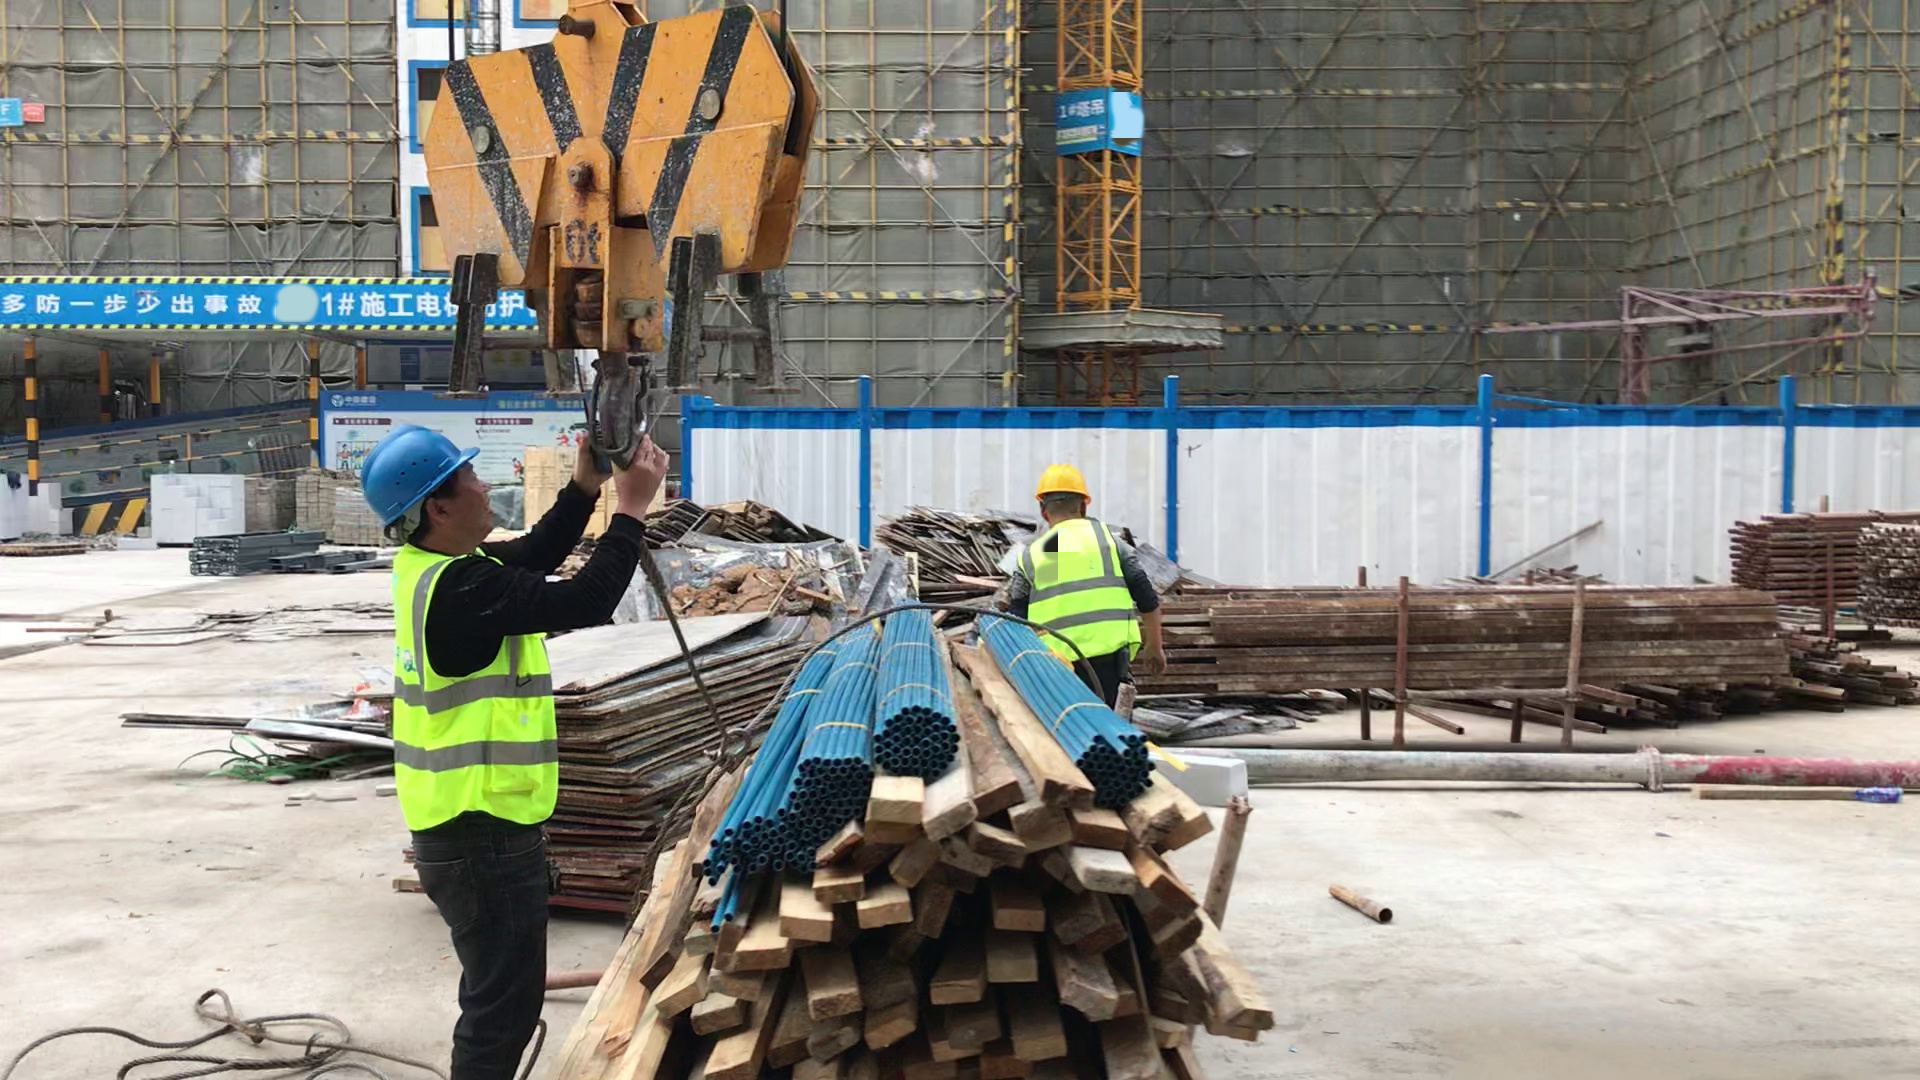board: (522, 604, 845, 930)
brick: (122, 461, 371, 550), (3, 458, 94, 558)
fence: (3, 409, 326, 520)
helmet: (352, 416, 492, 526), (1020, 441, 1104, 514)
hook: (348, 3, 915, 482)
person: (340, 414, 673, 1080), (986, 446, 1181, 741)
scaffold: (1738, 478, 1920, 620)
slogan: (1, 259, 654, 351), (322, 397, 604, 493), (1041, 84, 1167, 172), (1, 81, 52, 146)
vest: (376, 539, 601, 842), (1010, 514, 1144, 664)
wood: (549, 595, 1321, 1080)
